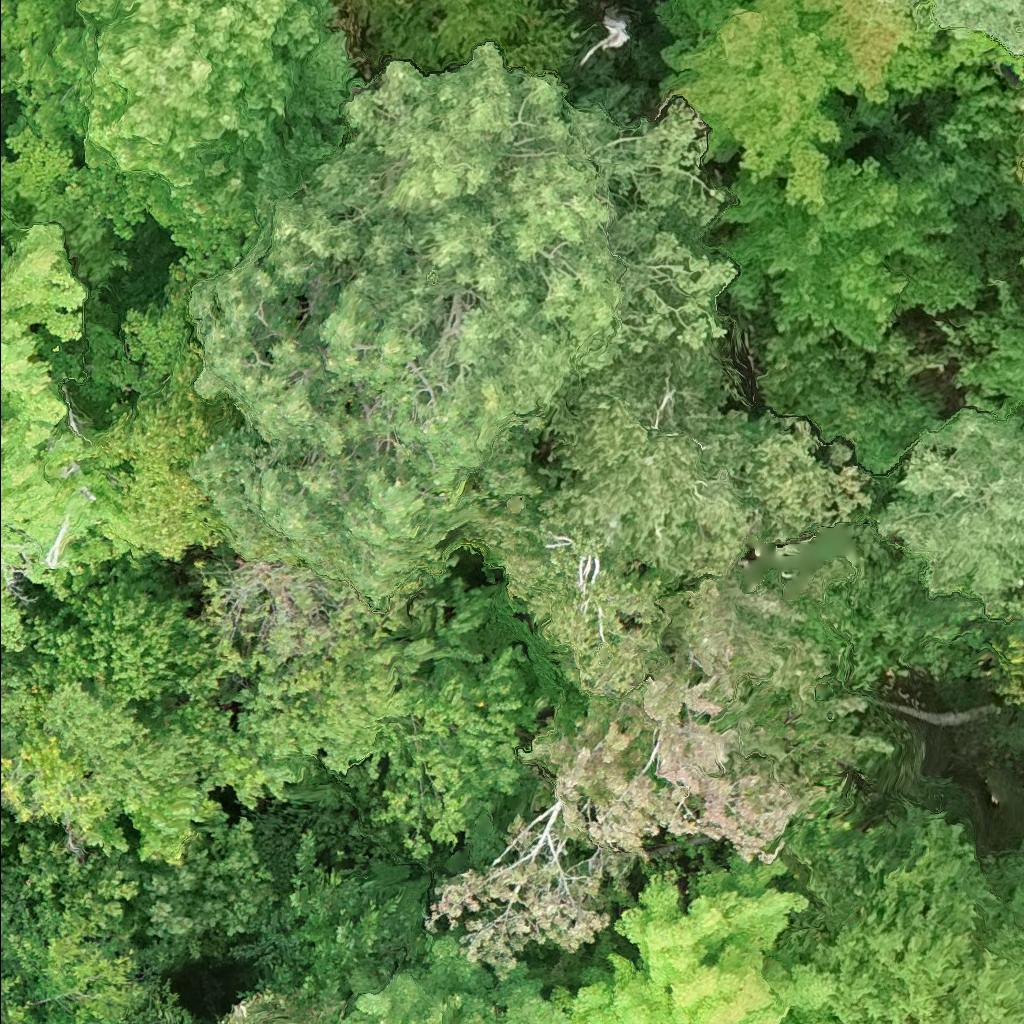crown: (192, 40, 743, 612), (427, 573, 903, 979), (465, 346, 882, 701), (0, 0, 371, 268), (237, 594, 552, 863), (0, 566, 248, 818), (0, 203, 149, 583), (777, 796, 1023, 1023), (569, 852, 840, 1023), (660, 0, 858, 204), (0, 828, 197, 1023), (873, 398, 1023, 634), (198, 557, 422, 712), (101, 349, 241, 555), (341, 933, 576, 1023), (367, 0, 586, 72), (941, 275, 1023, 413), (0, 126, 76, 211), (214, 983, 352, 1023), (649, 0, 743, 42), (0, 851, 24, 898), (0, 71, 10, 110), (1018, 250, 1023, 284), (0, 51, 4, 69)
